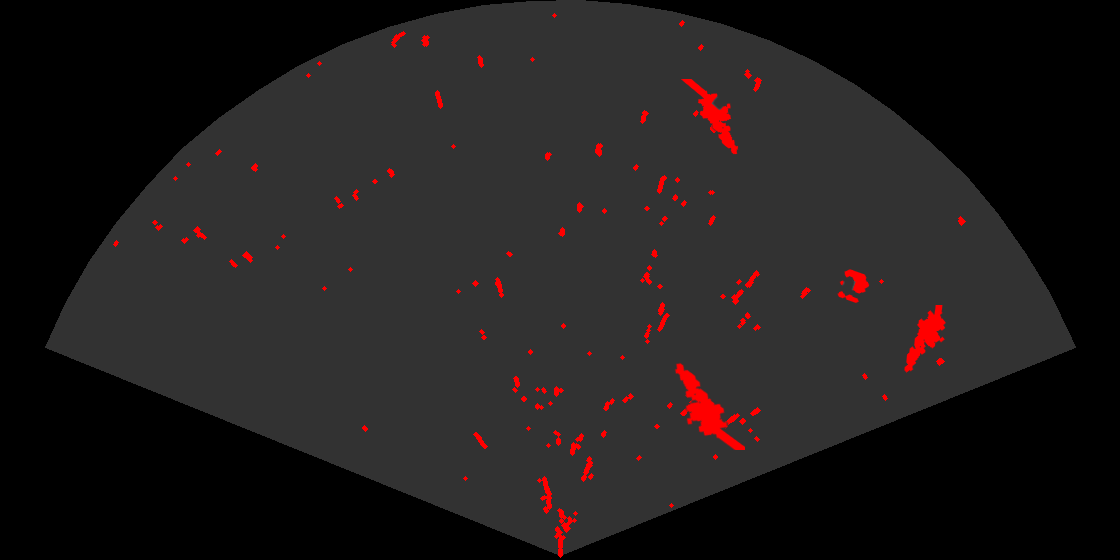ball: (836, 268, 871, 305)
frogman: (673, 361, 745, 450), (681, 79, 740, 156), (903, 305, 947, 374)
